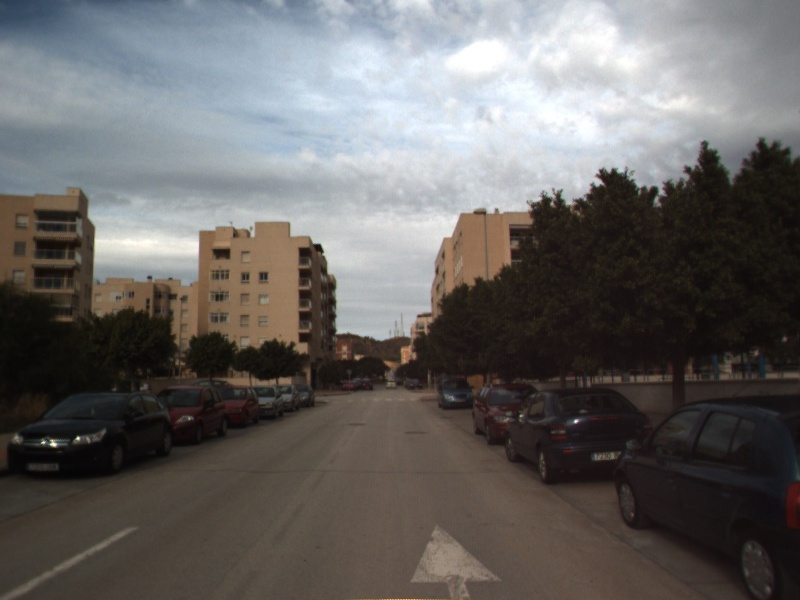STRAIGHT: (407, 521, 506, 600)
